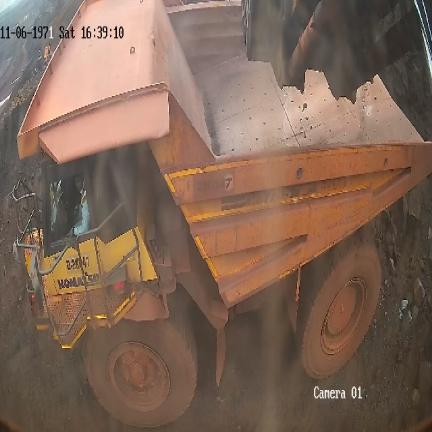pile: (364, 171, 432, 421)
